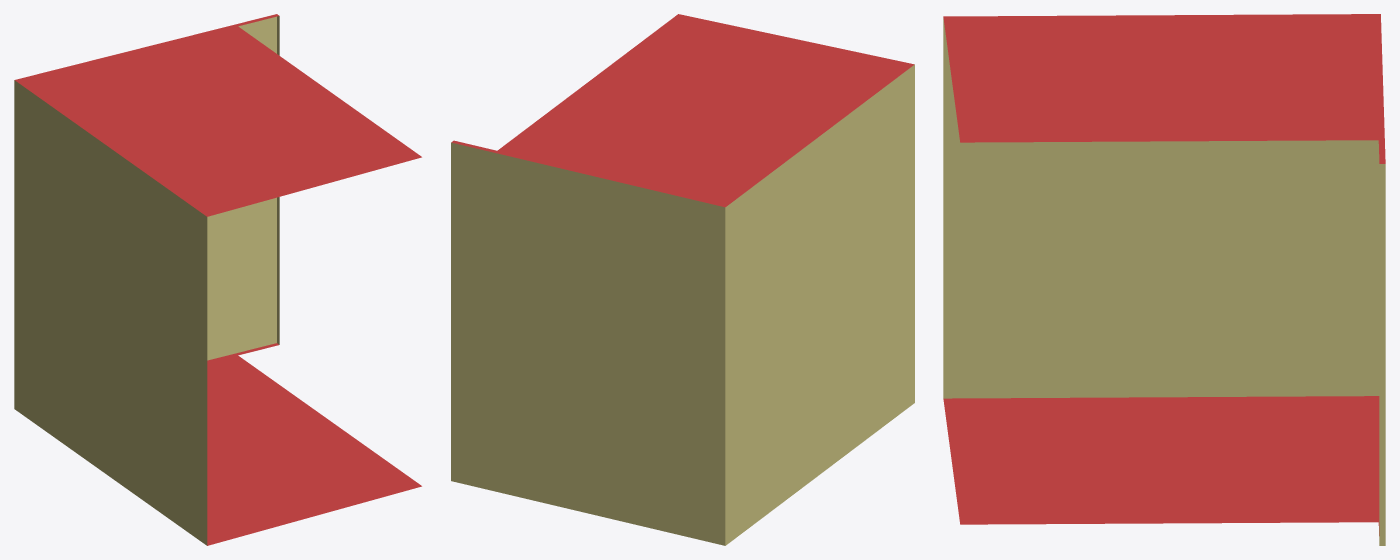
3 renders of one model, left to right at view 1: azimuth 30°, elevation 25°; view 2: azimuth 150°, elevation 25°; view 3: azimuth 270°, elevation 25°, orthographic. The views are drawn at different scales.
Bounding box in the file's own units: 6.11 × 7.62 × 7.26.
